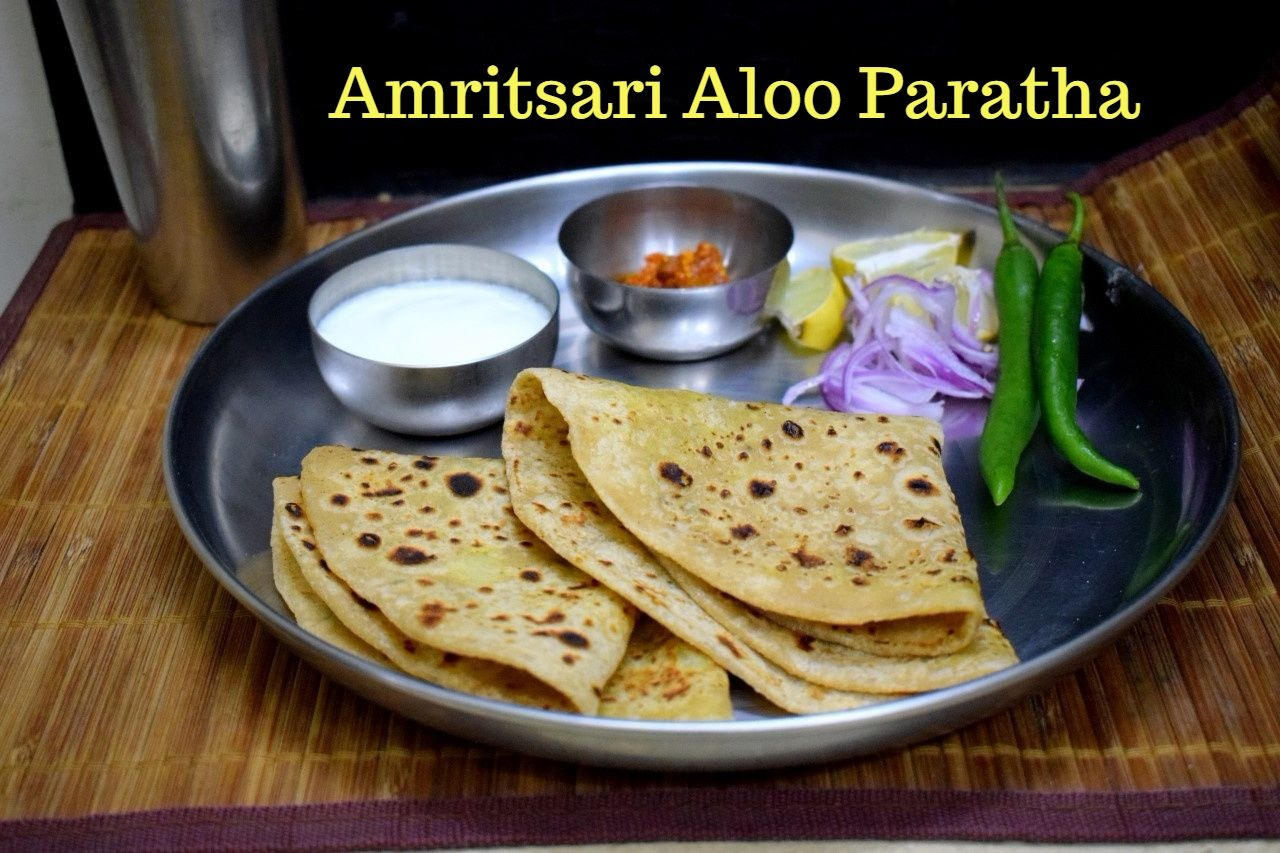aloo_paratha: (256, 384, 999, 724)
